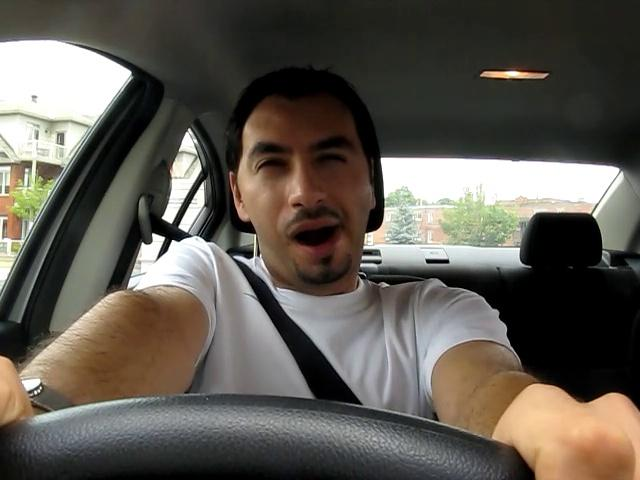close_eyeL: (244, 147, 301, 182)
close_eyeR: (303, 140, 369, 178)
yawn: (268, 209, 363, 263)
